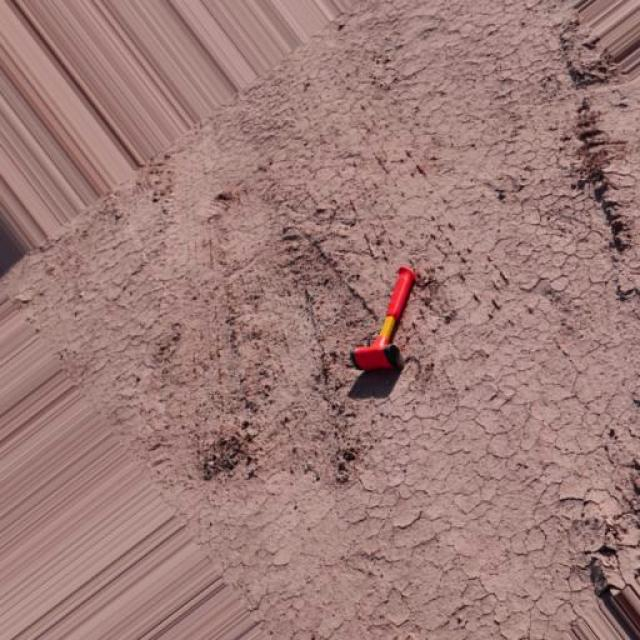mallet: (351, 264, 419, 372)
